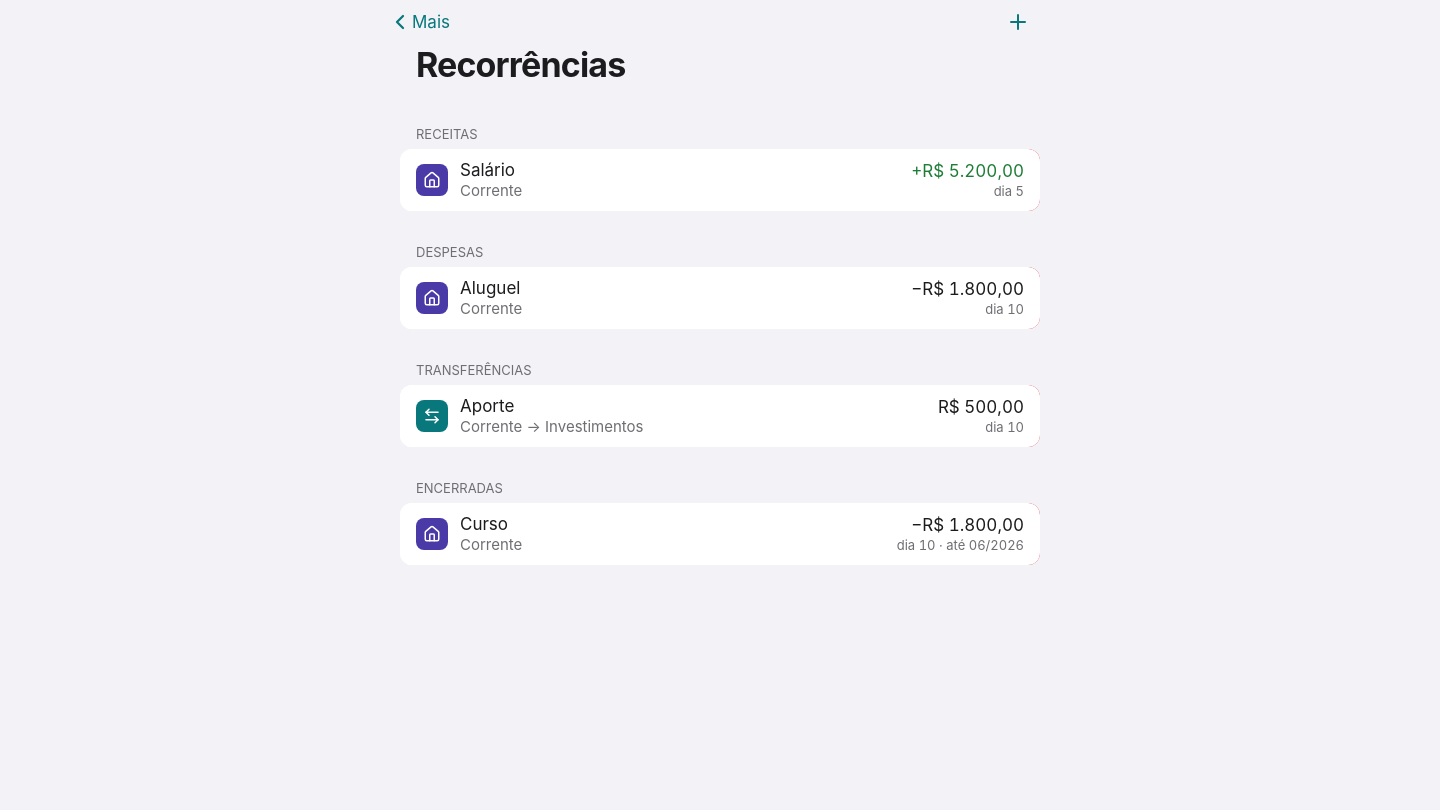
Scenario: TelaRecorrencias › editar abre preenchido; erro do backend cai embaixo do campo
Click the button "Curso Corrente −R$ 1.800,00 dia 10 · até 06/2026": [432, 534] box [400,503,1040,565]
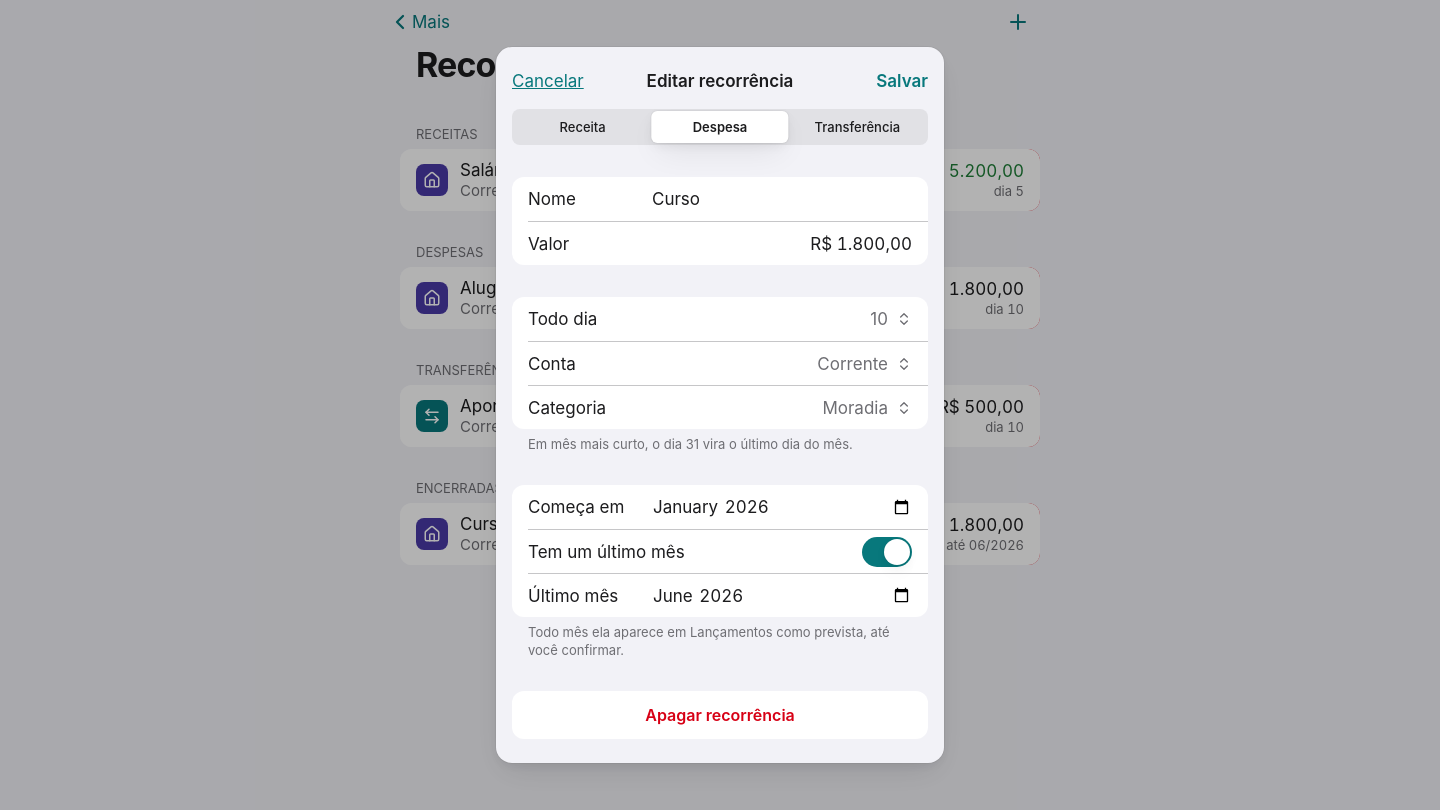
Result: the field labelled "Nome" holds "Curso" at [652,178,912,220]
Result: the switch labelled "Tem um último mês" is checked at [512,529,928,573]
Result: the field labelled "Último mês" holds "2026-06" at [652,574,912,616]
Click the button "Salvar": [902, 81] box [876,59,928,103]
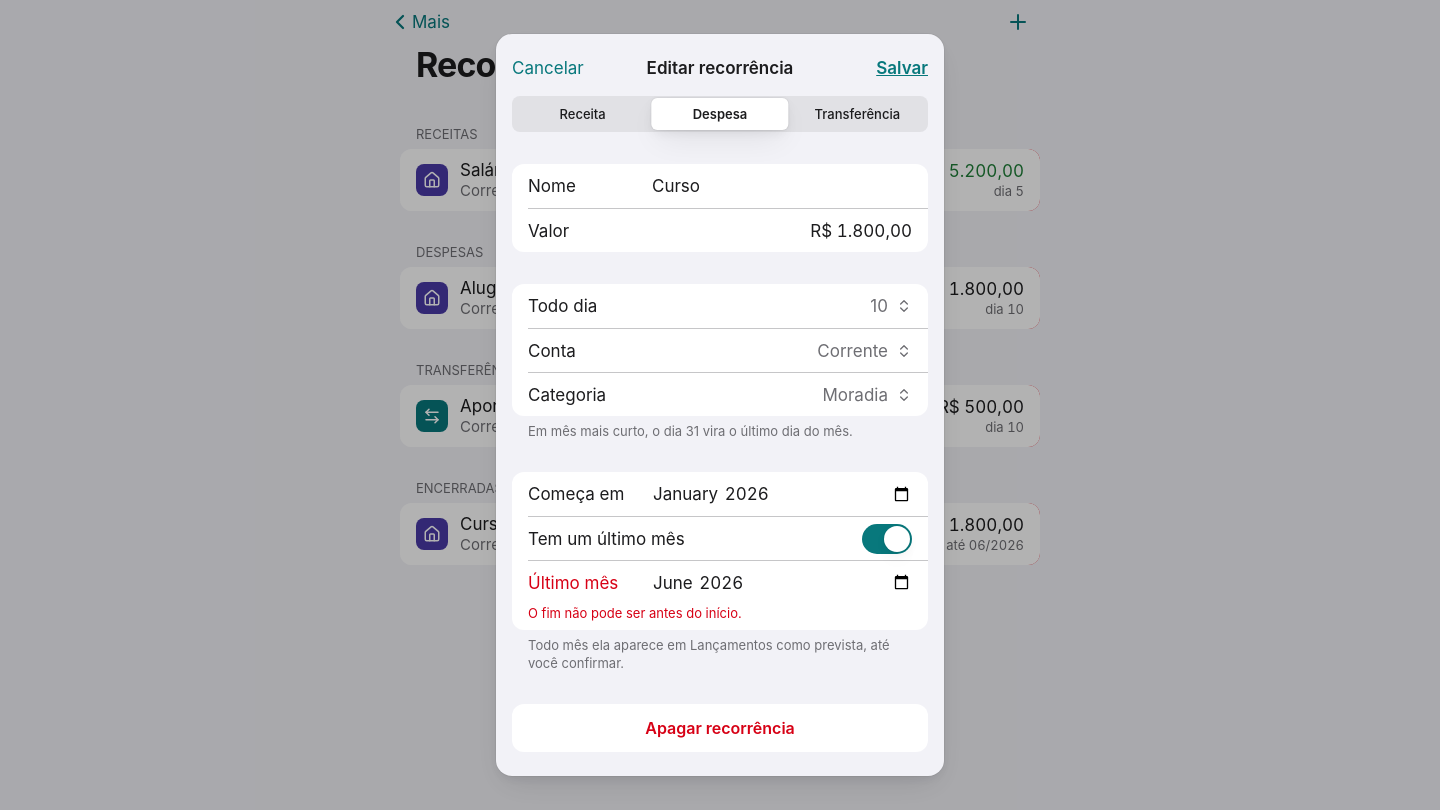
Result: the text "O fim não pode ser antes do início." is shown at [528,605,742,621]
